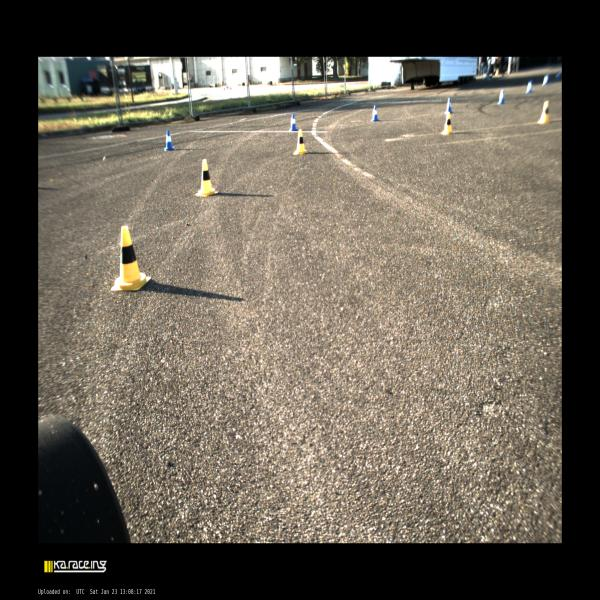blue_cone: (164, 129, 174, 151), (289, 113, 298, 131), (444, 97, 453, 114), (371, 105, 379, 122), (497, 89, 505, 104), (525, 81, 532, 94), (542, 74, 548, 86), (555, 71, 560, 81)
yellow_cone: (111, 226, 151, 290), (196, 158, 218, 197), (294, 128, 307, 155), (536, 100, 550, 124), (440, 111, 454, 135)
